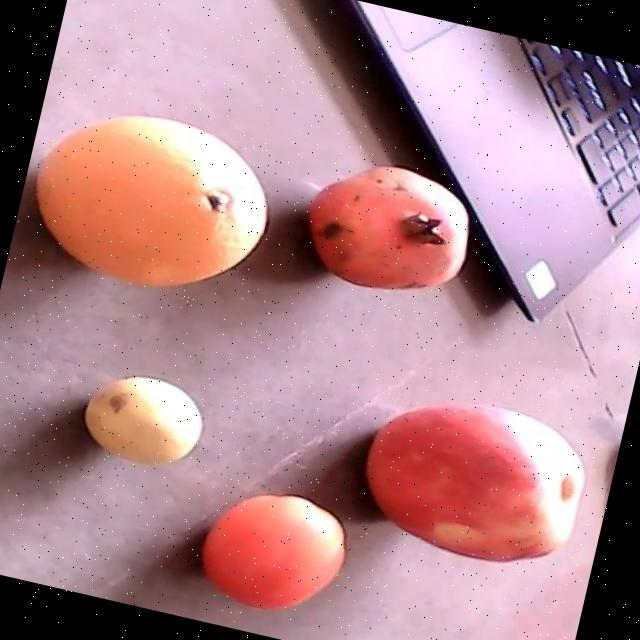apple: (364, 405, 586, 564)
lemon: (87, 374, 200, 464)
orange: (35, 117, 267, 288)
pomegranate: (307, 165, 468, 292)
tomato: (200, 494, 347, 611)
